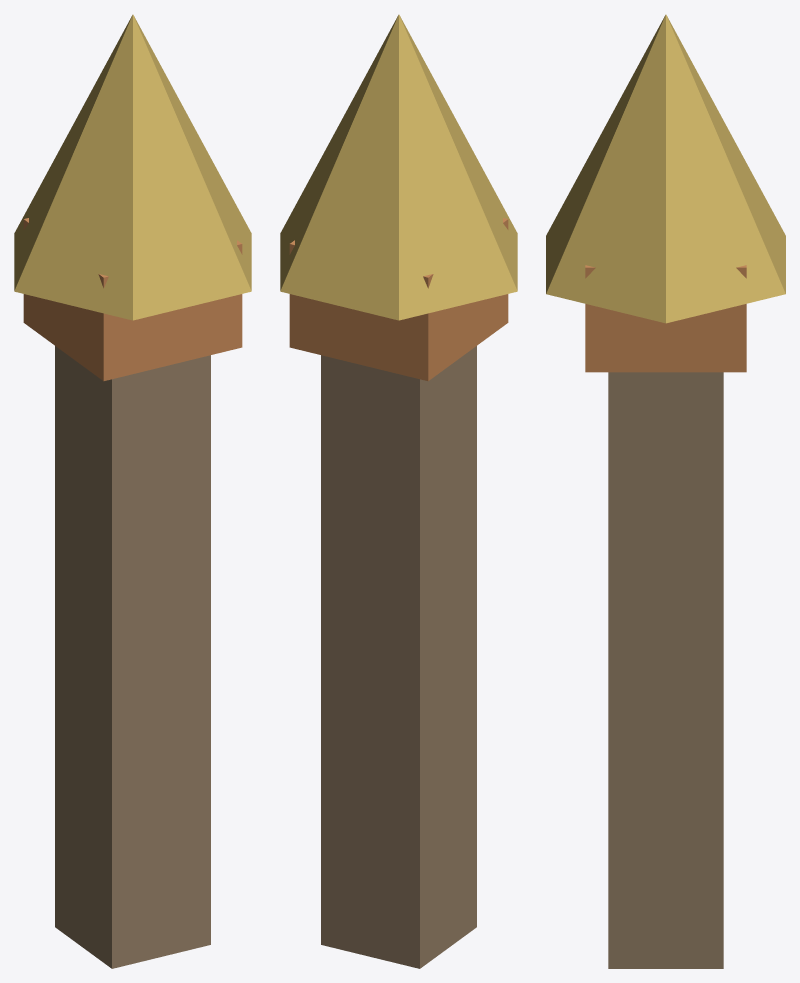
The picture shows the model from 3 angles, left to right: view 1: azimuth 30°, elevation 25°; view 2: azimuth 150°, elevation 25°; view 3: azimuth 270°, elevation 25°; orthographic projection.
Visible parts, largest first — view 1: part0, part2, part1; view 2: part0, part2, part1; view 3: part0, part2, part1.
Boxes of the visible parts, x1=… form: part0: x1=55, y1=346, x2=210, y2=968; part2: x1=14, y1=14, x2=251, y2=320; part1: x1=23, y1=218, x2=242, y2=381; part0: x1=321, y1=346, x2=476, y2=968; part2: x1=280, y1=14, x2=517, y2=320; part1: x1=289, y1=218, x2=508, y2=381; part0: x1=608, y1=372, x2=723, y2=968; part2: x1=546, y1=14, x2=785, y2=323; part1: x1=585, y1=265, x2=746, y2=372.
Size of the model in its own units: 1.2 by 4.45 by 1.04.
